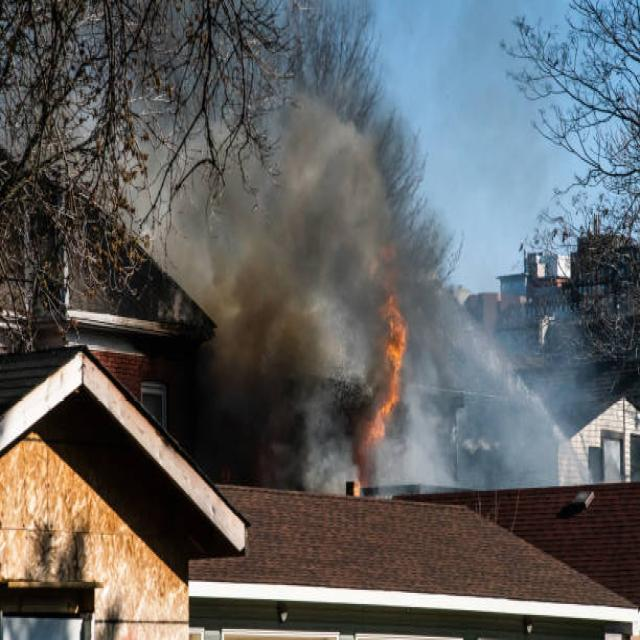Fire: (364, 277, 404, 474)
Smoke: (174, 113, 387, 497)
